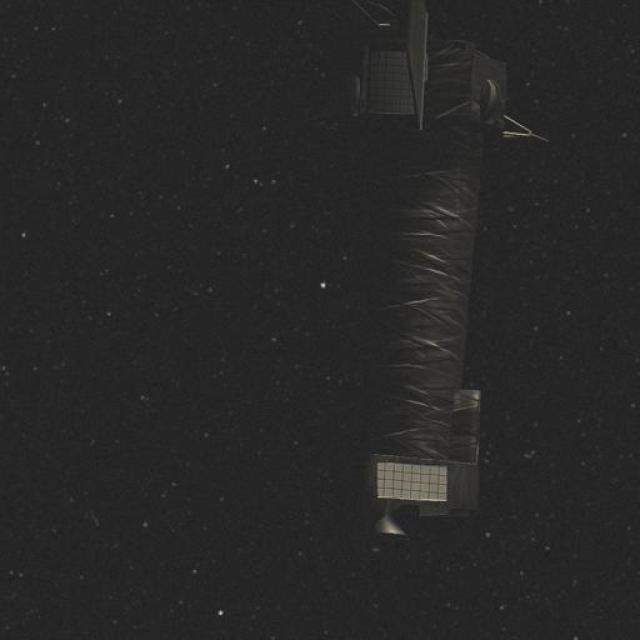xmm_newton: (302, 0, 503, 544)
